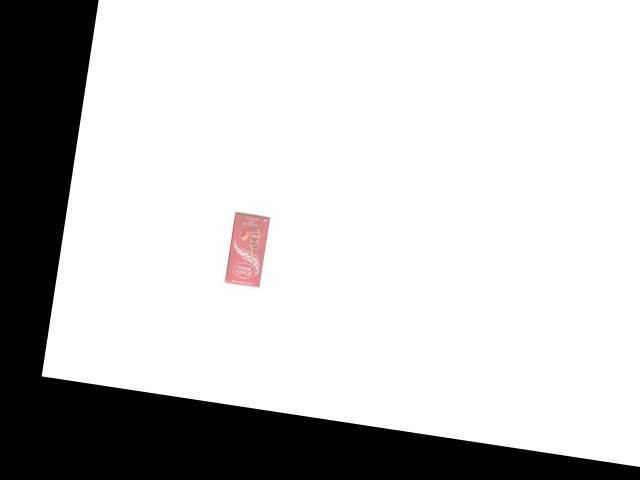chocolate: (223, 206, 273, 290)
